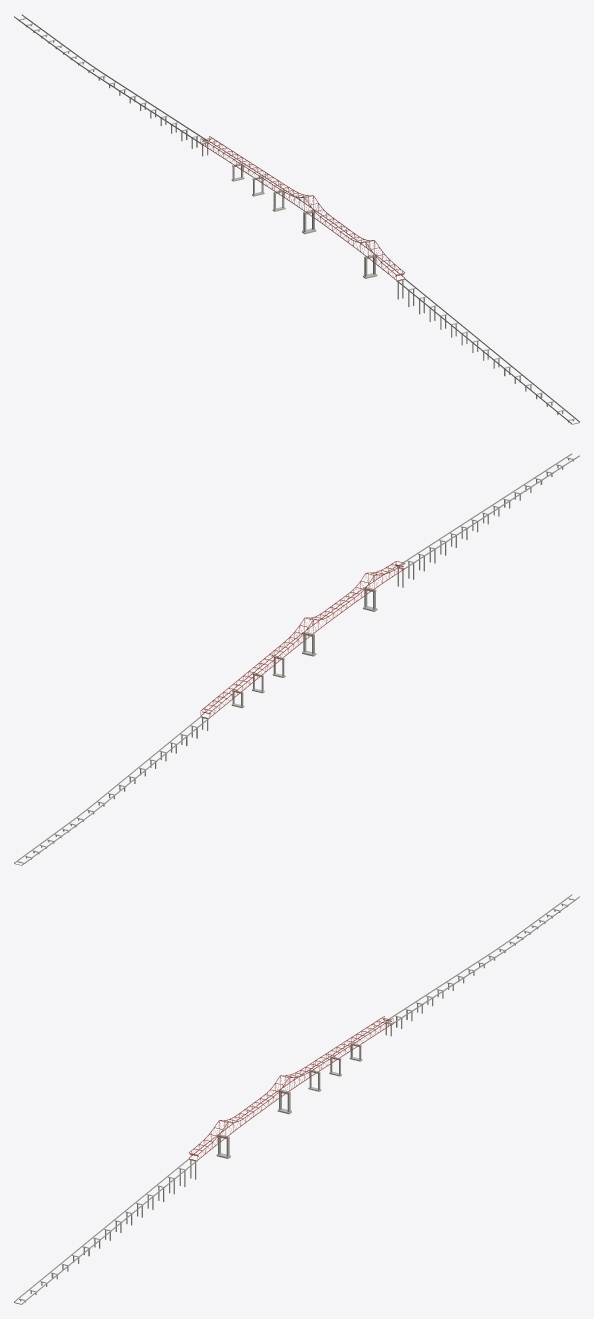
File: jax-mathews-bridge.glb
3 views of the same model, one above another, from view 1: azimuth 30°, elevation 25°; view 2: azimuth 150°, elevation 25°; view 3: azimuth 330°, elevation 25° (orthographic).
Visible parts, largest first — view 1: Mathews Bridge; view 2: Mathews Bridge; view 3: Mathews Bridge.
Part boxes in pixels (left/top/right/bottom): Mathews Bridge: left=14, top=14, right=579, bottom=424; Mathews Bridge: left=14, top=453, right=579, bottom=865; Mathews Bridge: left=14, top=894, right=579, bottom=1304.
Bounding box in the file's own units: 28 × 78.7 × 2248.
